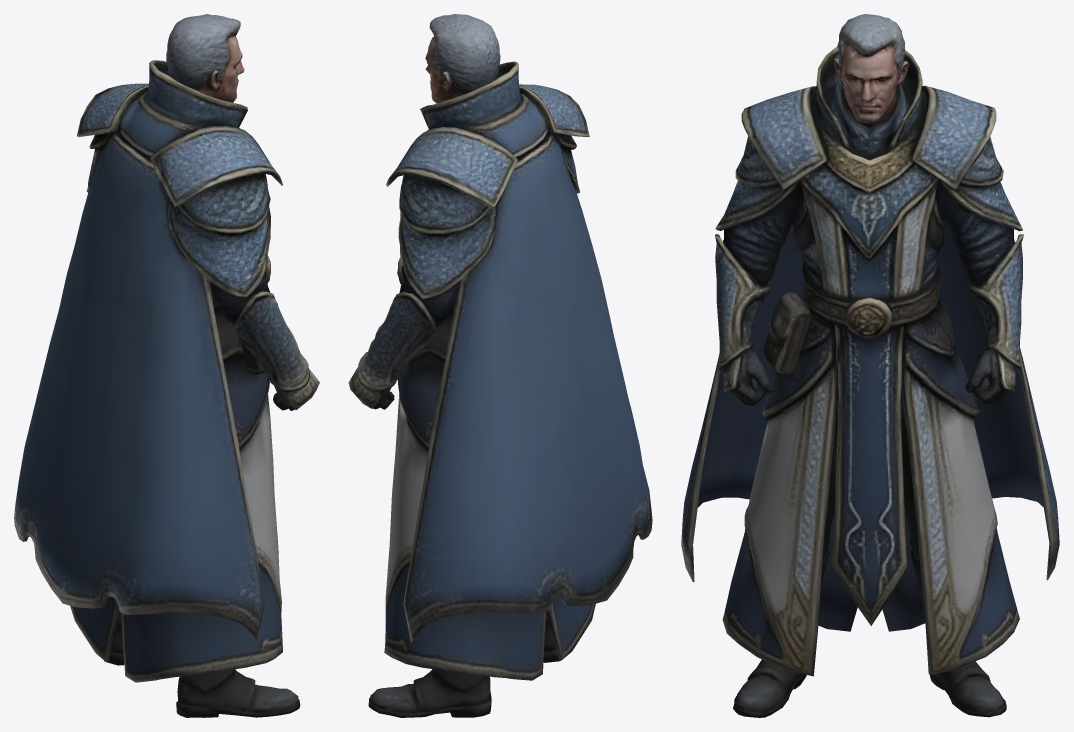
File: elias.glb
The picture shows the model from 3 angles, left to right: view 1: azimuth 30°, elevation 25°; view 2: azimuth 150°, elevation 25°; view 3: azimuth 270°, elevation 25°; orthographic projection. The views are drawn at different scales.
Parts seen in each view (by area): view 1: tripo_node_ffb6fe80-c962-4de4-9025-0b0663947e71; view 2: tripo_node_ffb6fe80-c962-4de4-9025-0b0663947e71; view 3: tripo_node_ffb6fe80-c962-4de4-9025-0b0663947e71.
Boxes of the visible parts, box(x1,y1,x2,y2) form: tripo_node_ffb6fe80-c962-4de4-9025-0b0663947e71: box(14, 14, 319, 717); tripo_node_ffb6fe80-c962-4de4-9025-0b0663947e71: box(348, 14, 652, 717); tripo_node_ffb6fe80-c962-4de4-9025-0b0663947e71: box(681, 14, 1059, 717).
Size of the model in its own units: 0.3229 by 1 by 0.503.
1 material, 1 textured.
